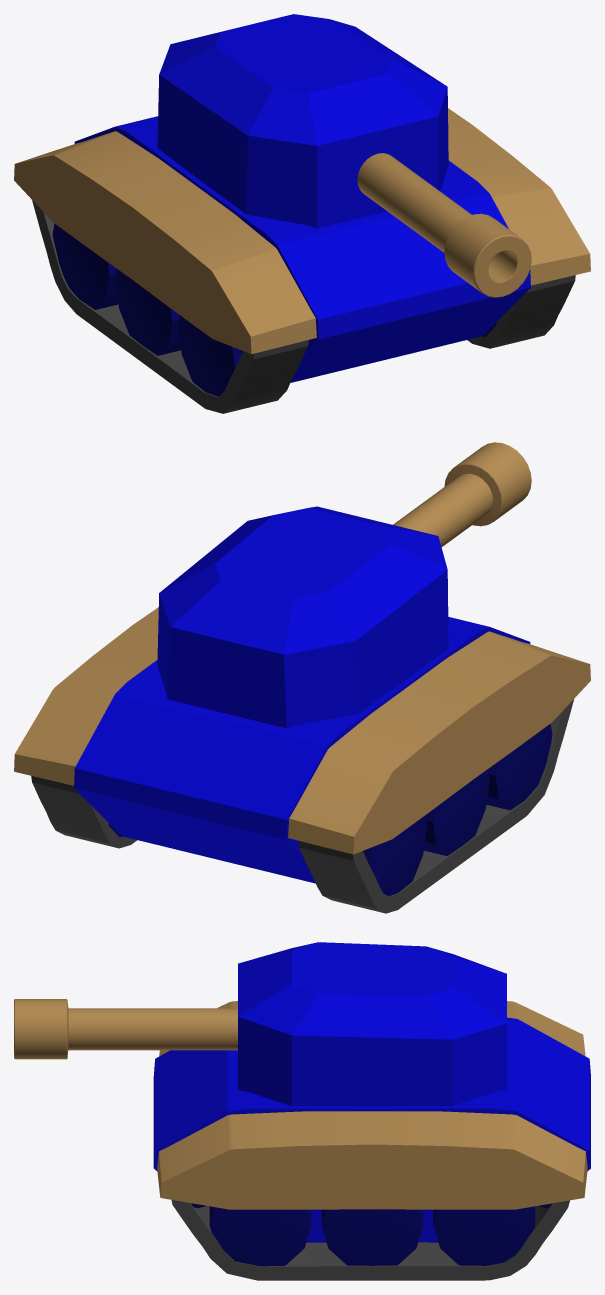
Rendered from tank 1.fbx.
3 renders of one model, top to bottom at view 1: azimuth 30°, elevation 25°; view 2: azimuth 150°, elevation 25°; view 3: azimuth 270°, elevation 25°, orthographic. The views are drawn at different scales.
Visible parts, largest first — view 1: base, tourelle; view 2: base, tourelle; view 3: base, tourelle.
Boxes of the visible parts, box(x1,y1,x2,y2) form: base: box(14, 108, 590, 413); tourelle: box(157, 14, 531, 297); base: box(14, 607, 590, 913); tourelle: box(157, 442, 531, 728); base: box(153, 1001, 590, 1280); tourelle: box(14, 942, 506, 1106).
Size of the model in its own units: 311 by 238 by 512.
